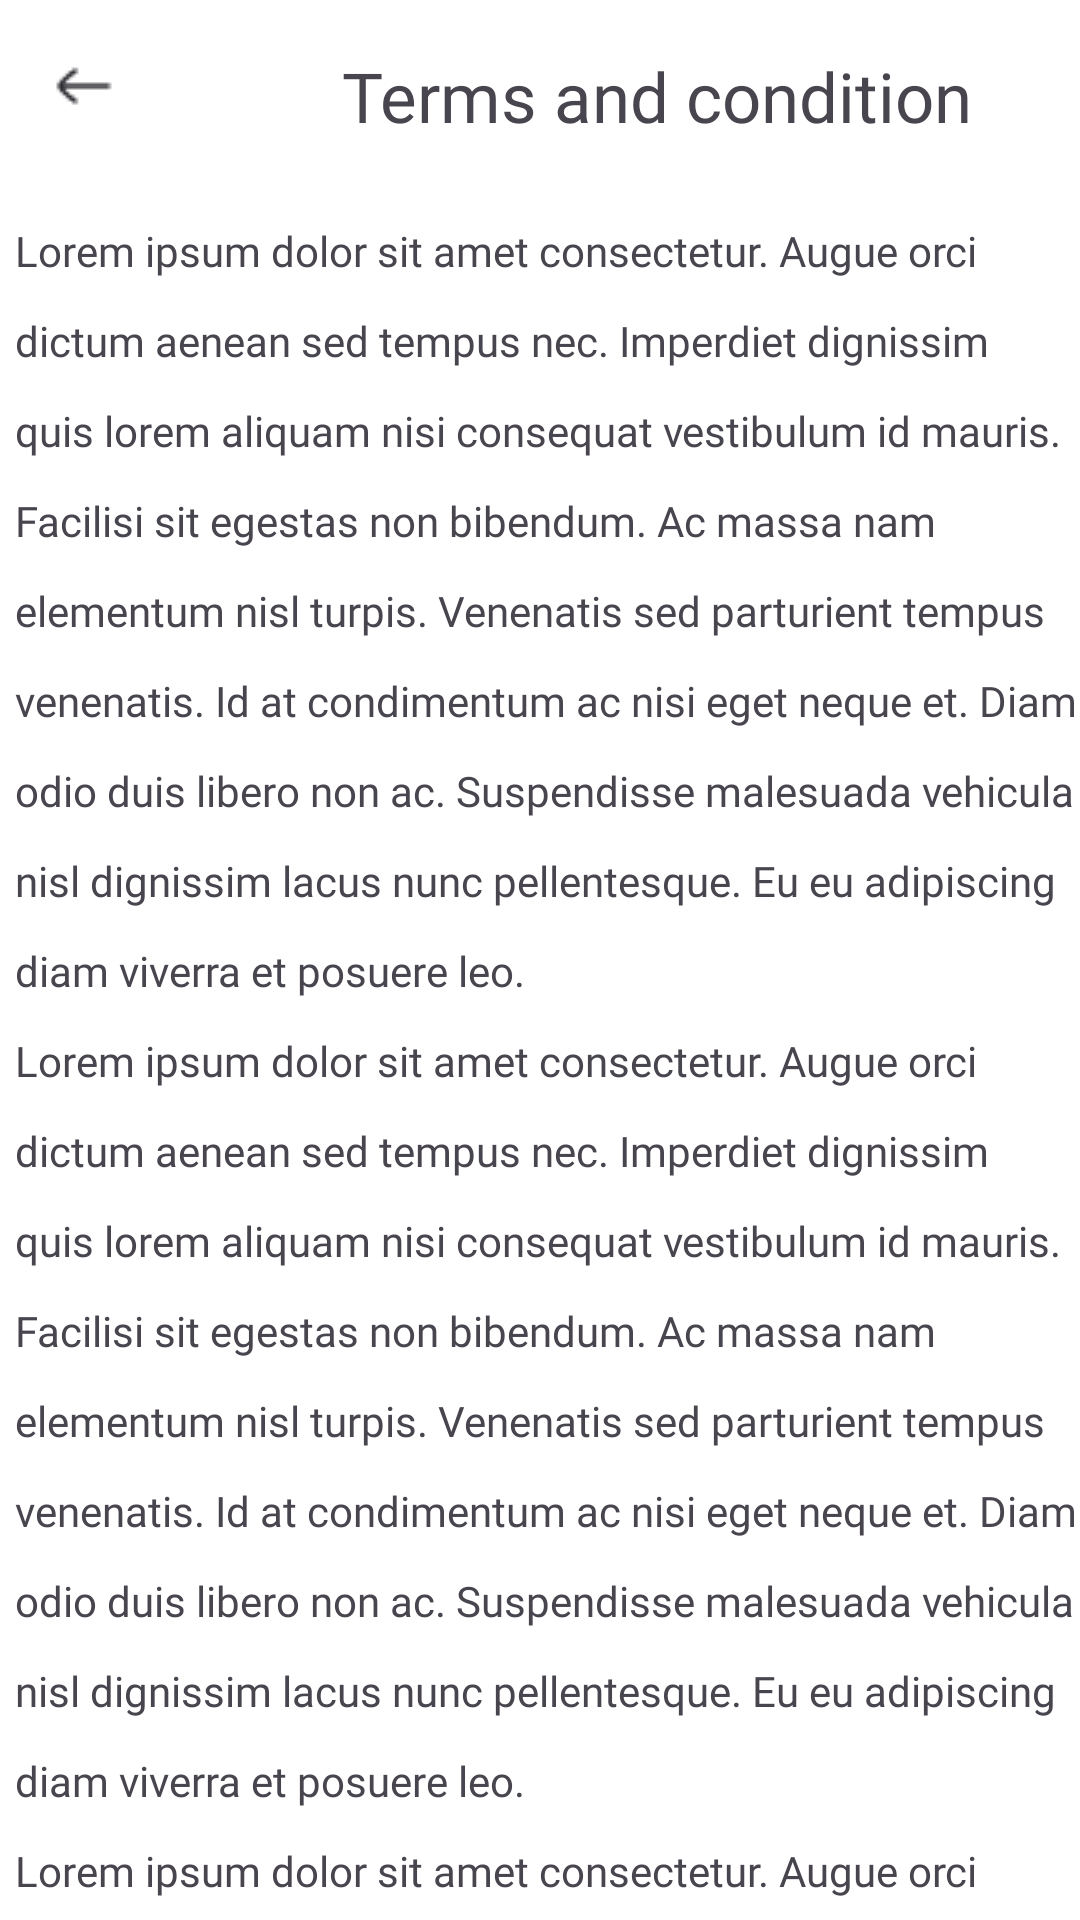

Named icons in this screenshot (1080 x 1920) and their centers, [x,y]:
arrow left: [84,86]
